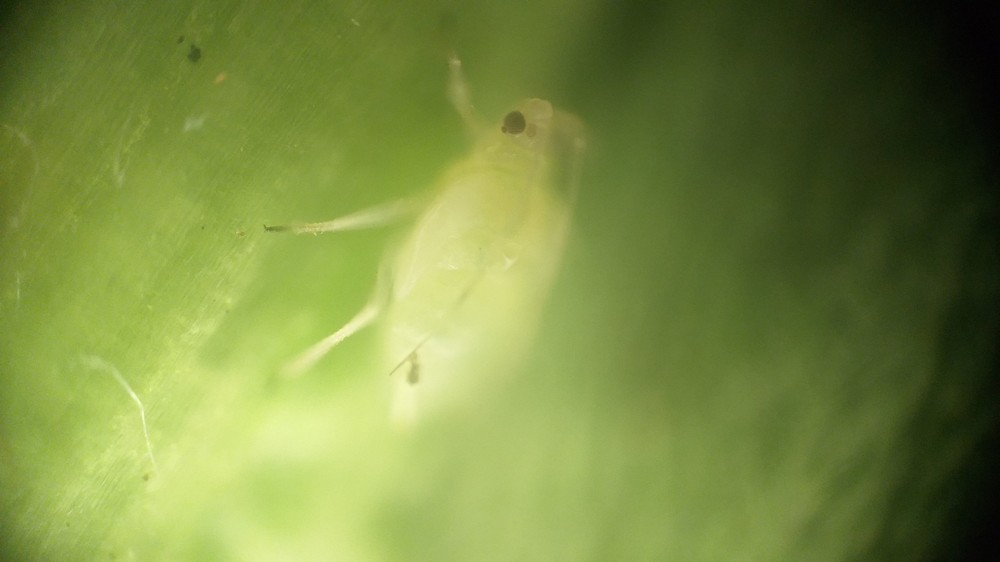Pulgon: (255, 53, 637, 456)
